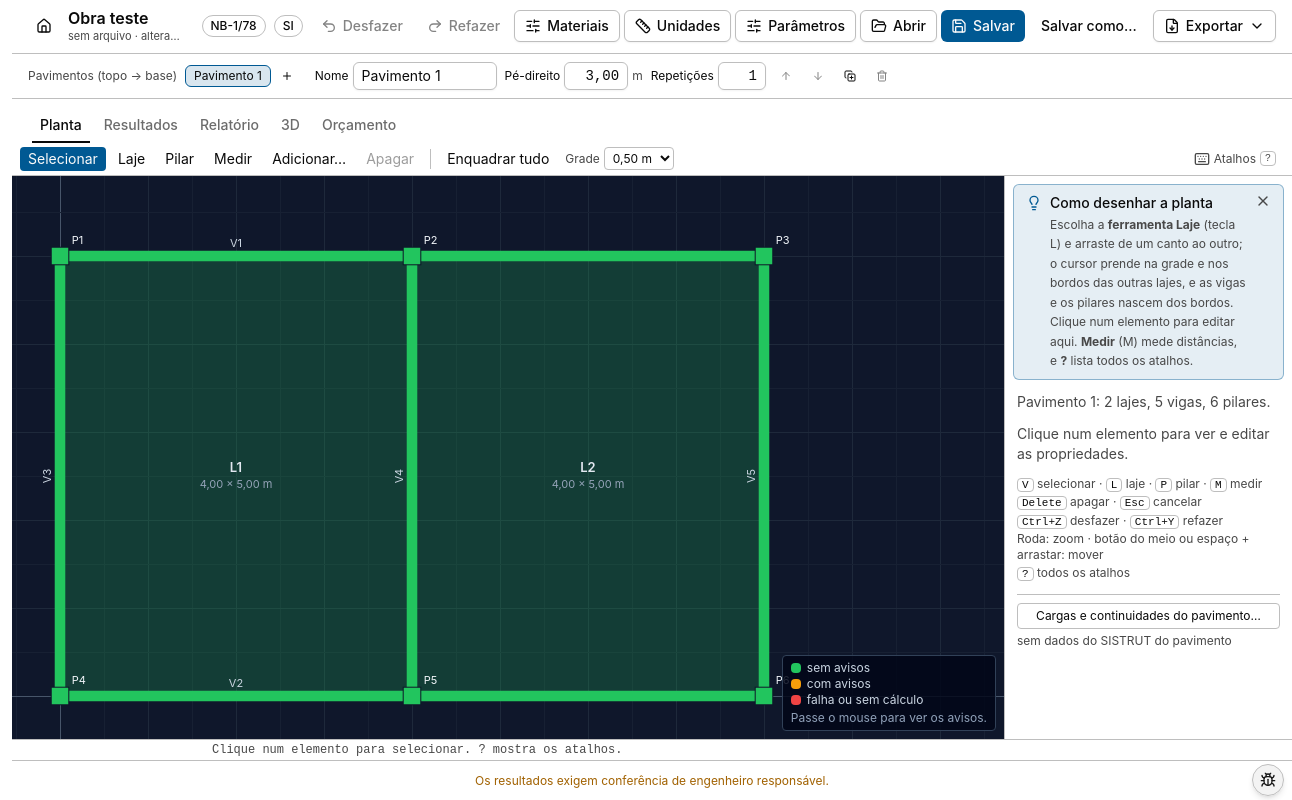
Test case: filtro de elementos › nome que não existe diz como filtrar
Click the tab "Resultados" at [141, 124], box [95,110,187,139]
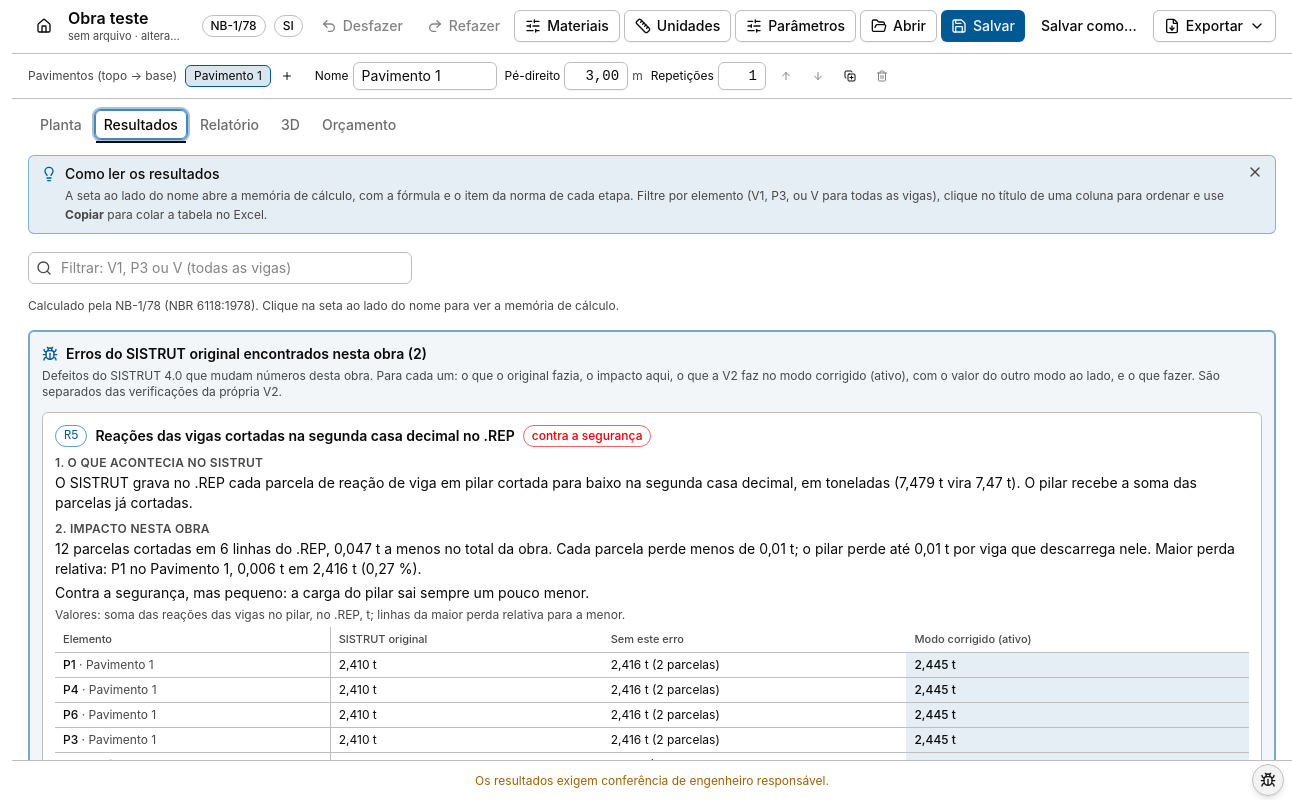
expect the text "Calculado pela" is shown: met, box [28,298,115,312]
Type "X9" into the field with placeholder "Filtrar: V1, P3 ou V (todas as vigas)" at [220, 268], box [28,252,412,284]
(page scrolled)
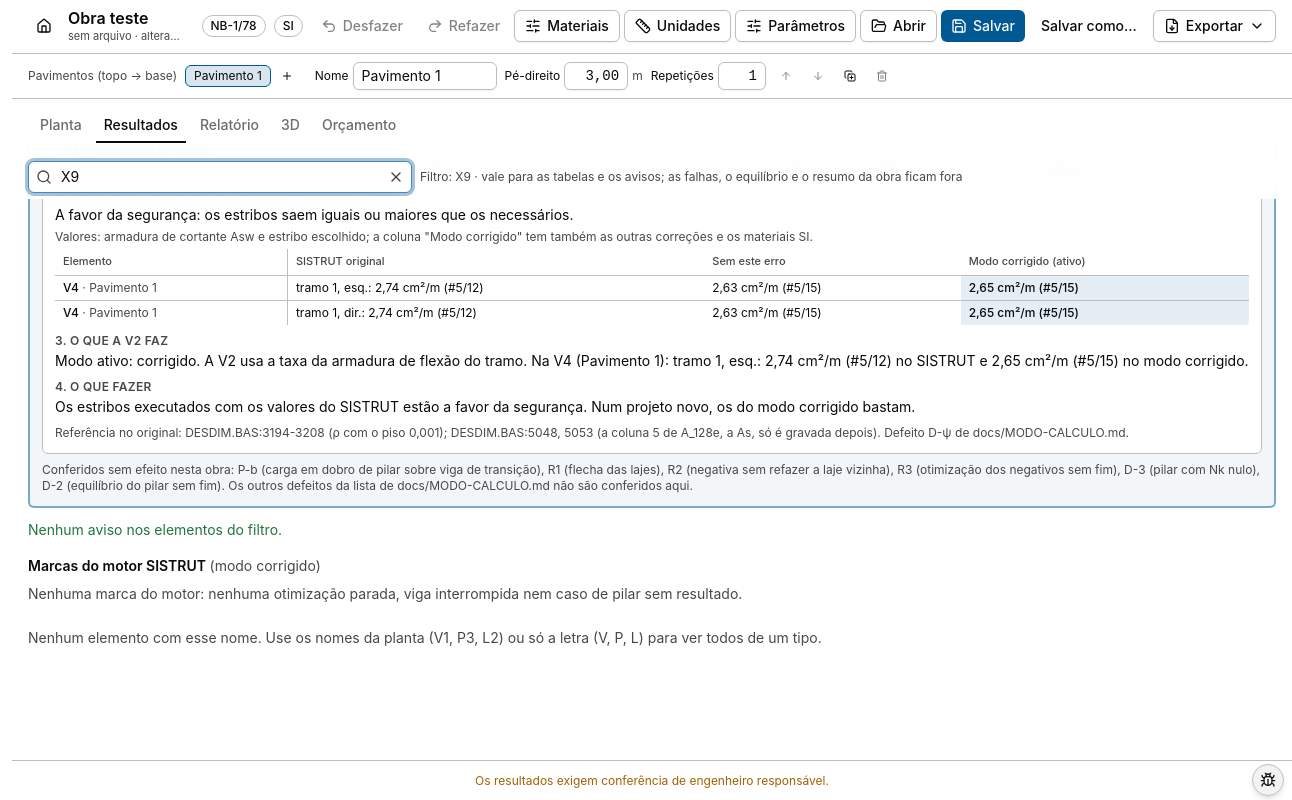
expect the text "Nenhum elemento com esse nome" is shown: met, box [28,629,822,646]
